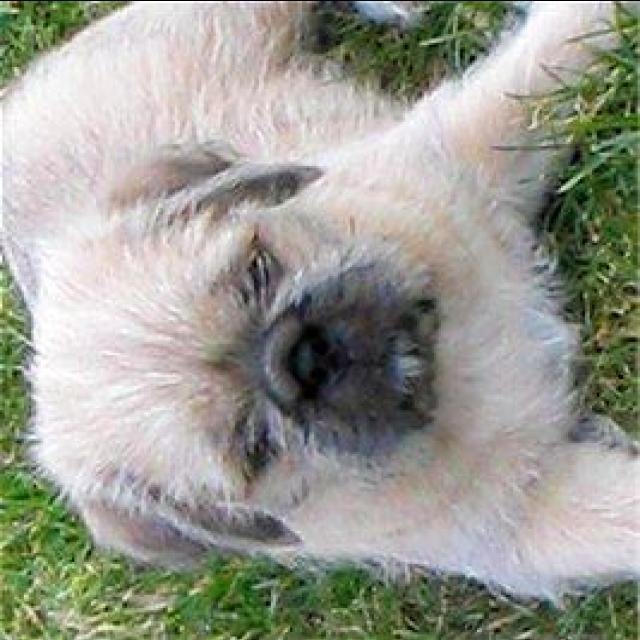shih_tzu: (2, 0, 638, 596)
